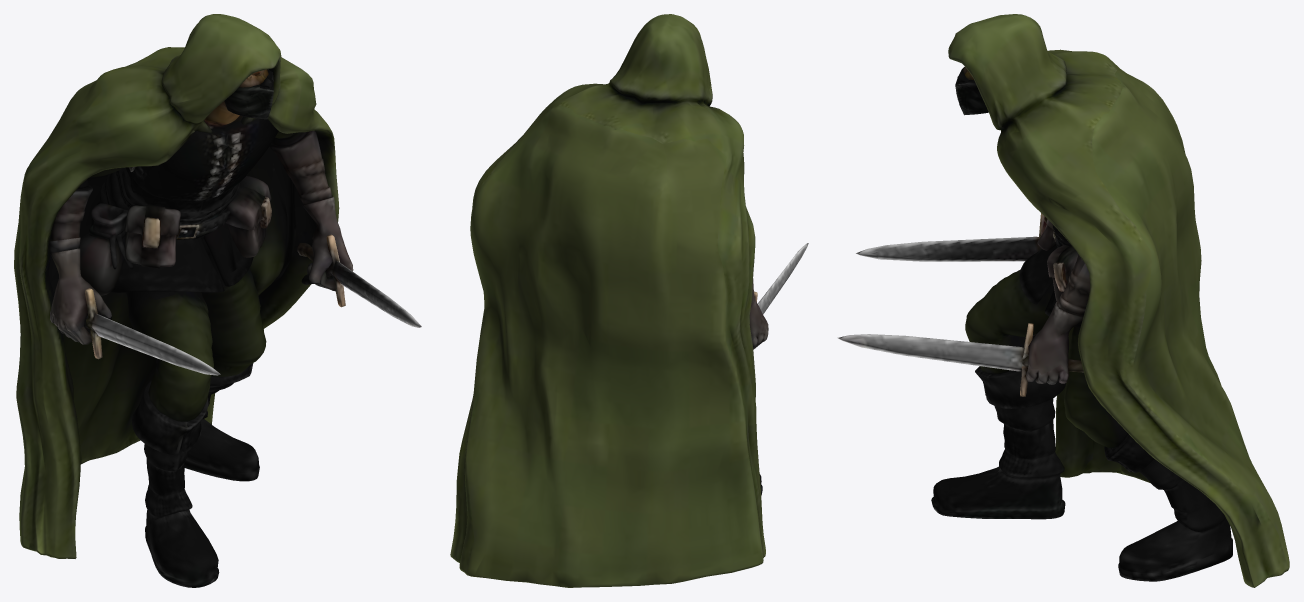
File: MZ4250 - Assassin Male_3_2025.glb
3 views of the same model, side by side, from view 1: azimuth 30°, elevation 25°; view 2: azimuth 150°, elevation 25°; view 3: azimuth 270°, elevation 25° (orthographic). The views are drawn at different scales.
Visible parts, largest first — view 1: Body.002; view 2: Body.002; view 3: Body.002.
Part boxes in pixels (<box>): Body.002: <box>14,14,421,587</box>; Body.002: <box>450,14,808,587</box>; Body.002: <box>837,14,1289,587</box>.
Bounding box in the file's own units: 53.51 × 87.32 × 68.97.
1 material, 1 textured.
